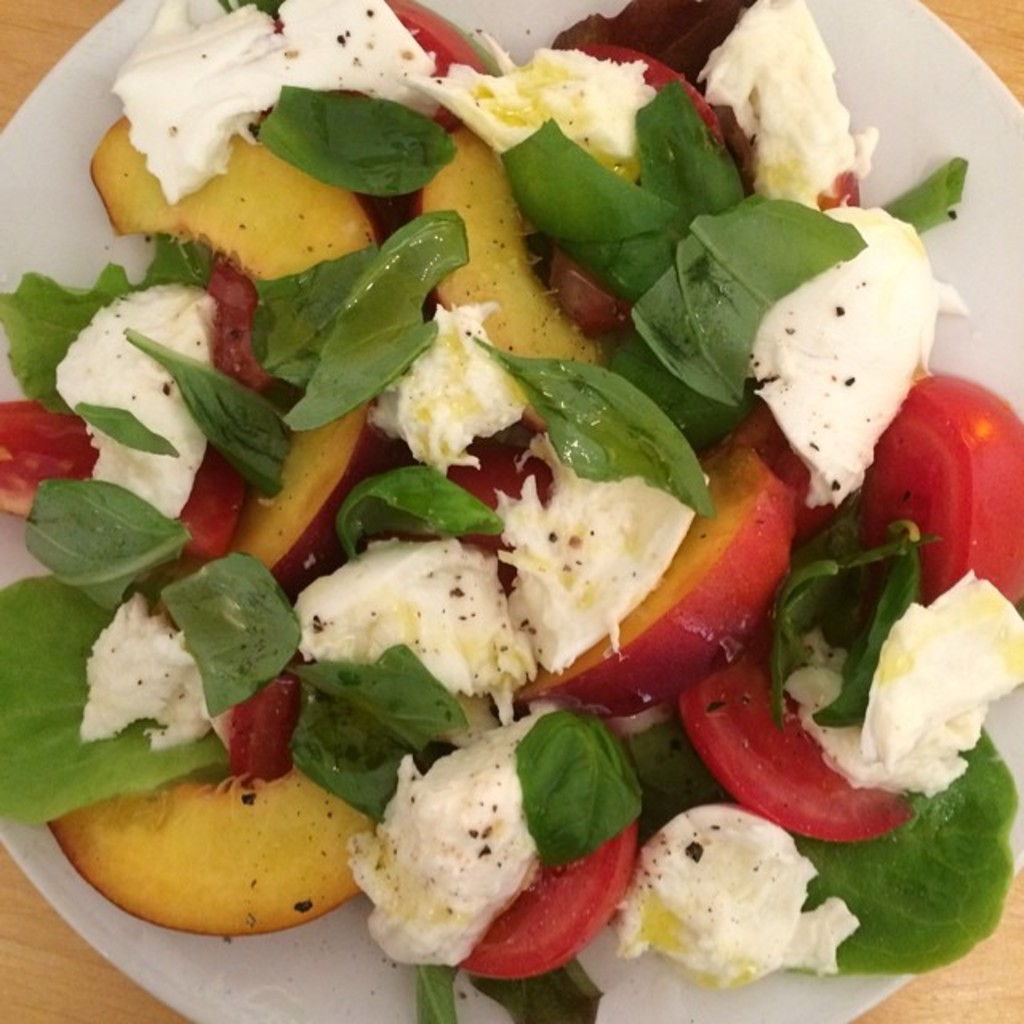Tomato: (668, 652, 921, 856), (844, 364, 1022, 612), (460, 825, 649, 980), (580, 46, 724, 137), (441, 438, 547, 561), (384, 0, 481, 131), (0, 398, 100, 519), (203, 249, 270, 387), (187, 446, 262, 566), (219, 676, 288, 779)
